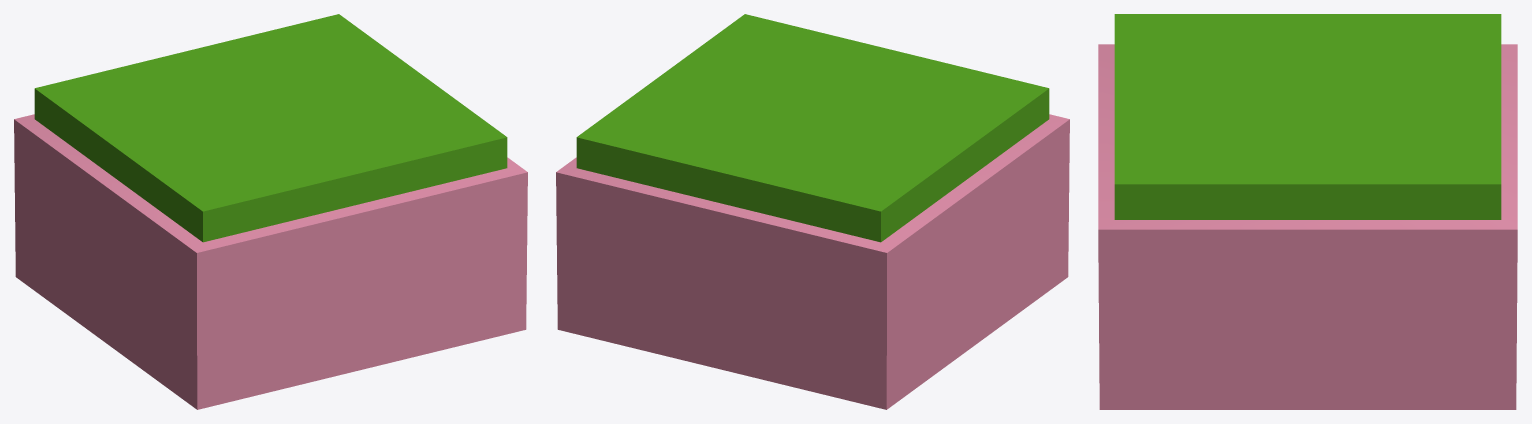
File: Isl_20_Base.fbx
The picture shows the model from 3 angles, left to right: view 1: azimuth 30°, elevation 25°; view 2: azimuth 150°, elevation 25°; view 3: azimuth 270°, elevation 25°; orthographic projection. The views are drawn at different scales.
Visible parts, largest first — view 1: Isl_20_Base; view 2: Isl_20_Base; view 3: Isl_20_Base.
Part boxes in pixels (<box>): Isl_20_Base: <box>14,14,527,409</box>; Isl_20_Base: <box>556,14,1069,409</box>; Isl_20_Base: <box>1098,14,1517,409</box>.
Size of the model in its own units: 1877 by 1795 by 1032.
Materials: 1 (1 with a texture image).
